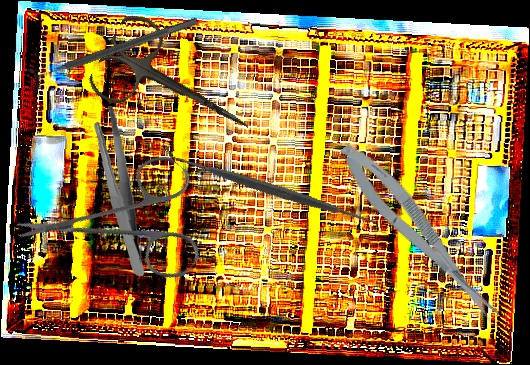Dressing Forceps: (86, 105, 154, 277)
Fixation Ring: (24, 8, 203, 95)
Iris Scissors: (12, 109, 237, 334), (83, 7, 271, 169)
Micro Scissor: (330, 134, 507, 333)
Spatula Surgical: (165, 83, 380, 295)
